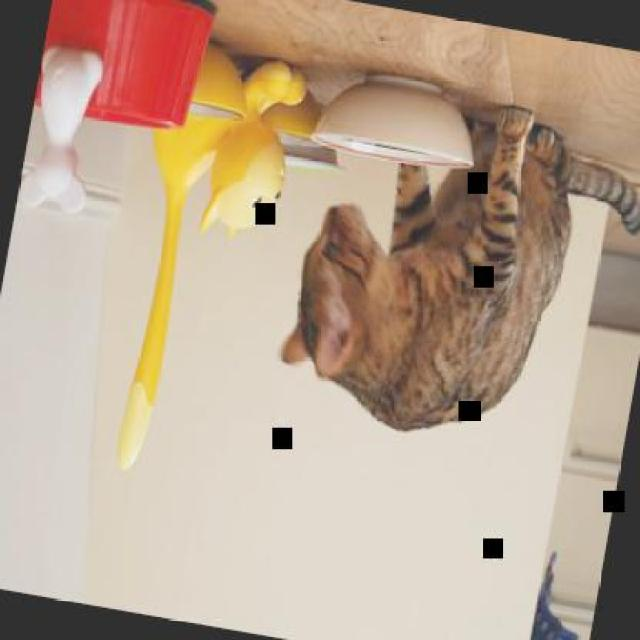cat: (271, 75, 638, 471)
